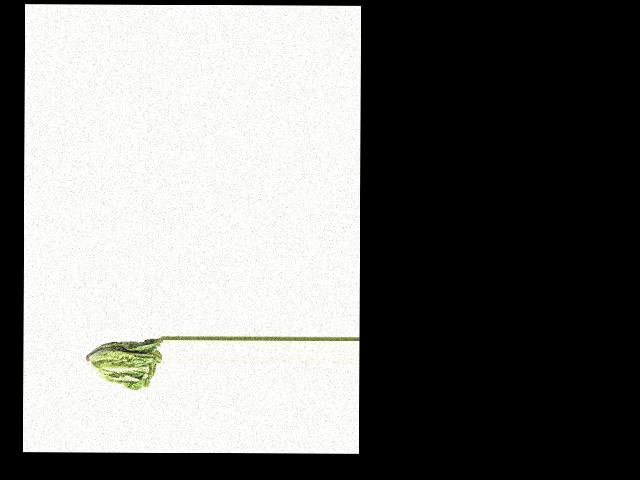lettuce: (87, 338, 162, 393)
